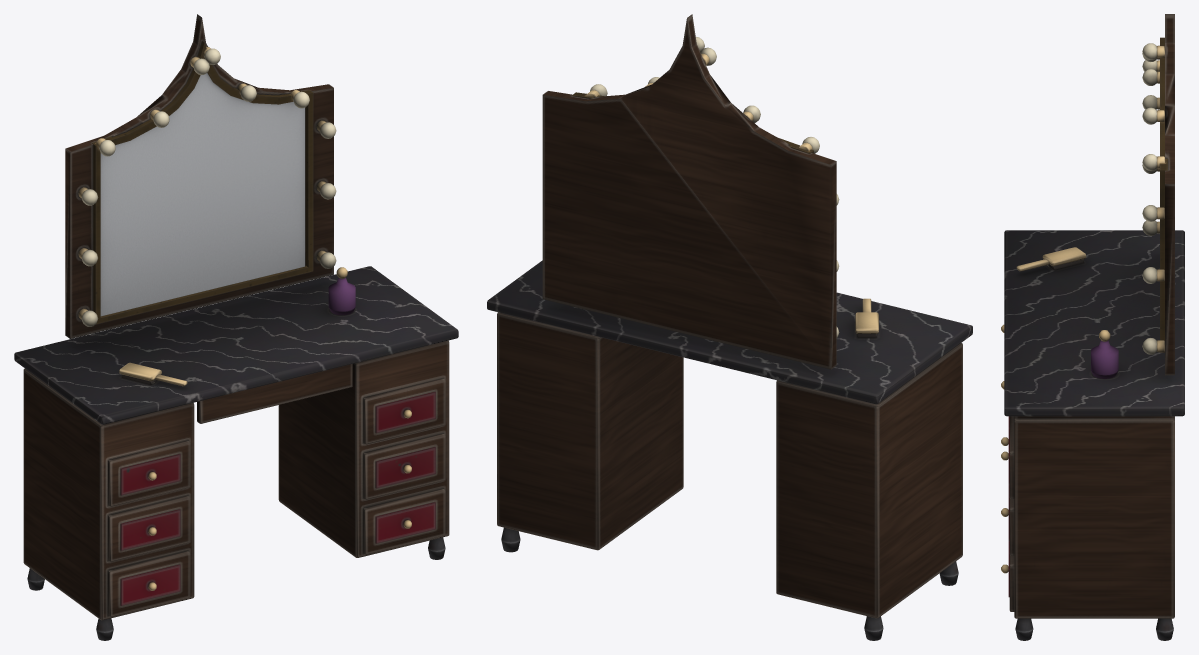
Rendered from VanityTable.fbx.
3 views of the same model, side by side, from view 1: azimuth 30°, elevation 25°; view 2: azimuth 150°, elevation 25°; view 3: azimuth 270°, elevation 25° (orthographic). The views are drawn at different scales.
Parts seen in each view (by area): view 1: VanityTable_Main, VanityTable_Mirror, VanityTable_Glow; view 2: VanityTable_Main, VanityTable_Glow; view 3: VanityTable_Main, VanityTable_Glow.
Boxes of the visible parts, bbox=[...] form: VanityTable_Main: bbox=[14, 14, 458, 640]; VanityTable_Mirror: bbox=[100, 73, 304, 316]; VanityTable_Glow: bbox=[81, 48, 336, 326]; VanityTable_Main: bbox=[487, 14, 972, 640]; VanityTable_Glow: bbox=[590, 37, 839, 337]; VanityTable_Main: bbox=[1001, 14, 1184, 640]; VanityTable_Glow: bbox=[1142, 43, 1157, 354].
Size of the model in its own units: 420 by 595 by 183.
